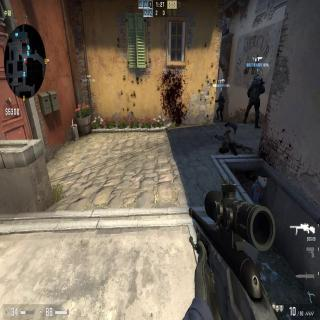CT-Body: (243, 72, 265, 130), (215, 90, 225, 120)
CT-Head: (254, 73, 260, 82), (219, 92, 223, 96)
T-Head: (257, 172, 268, 188)
